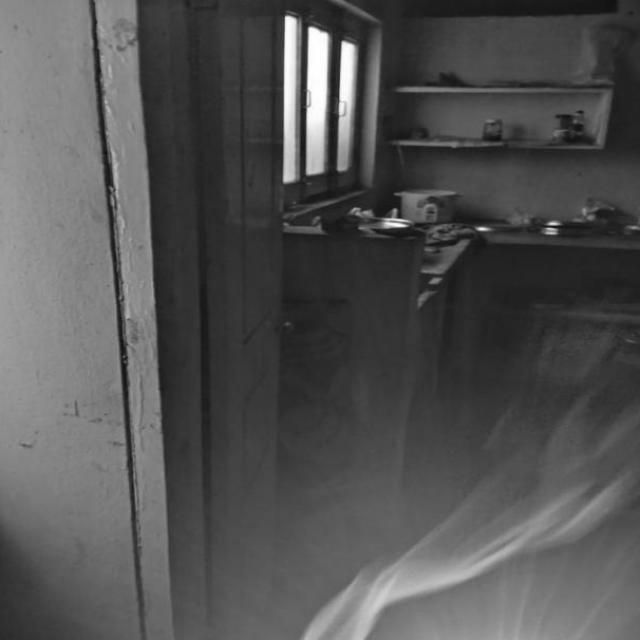fire: (272, 433, 626, 640)
